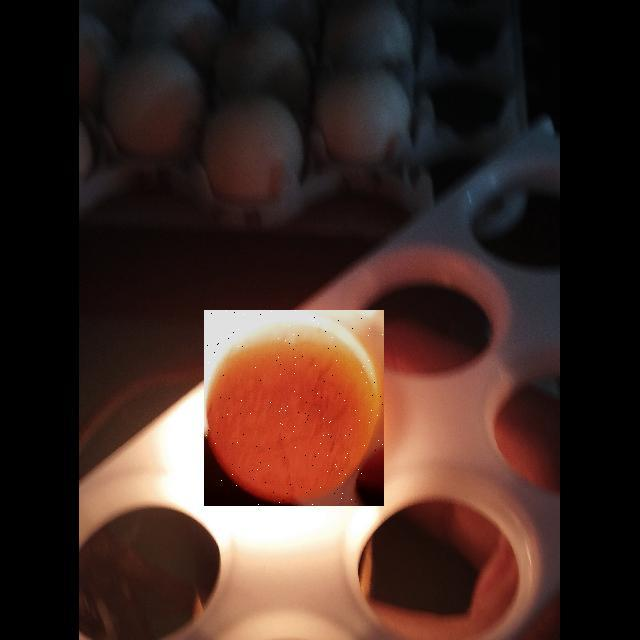Infertile: (204, 310, 384, 506)
